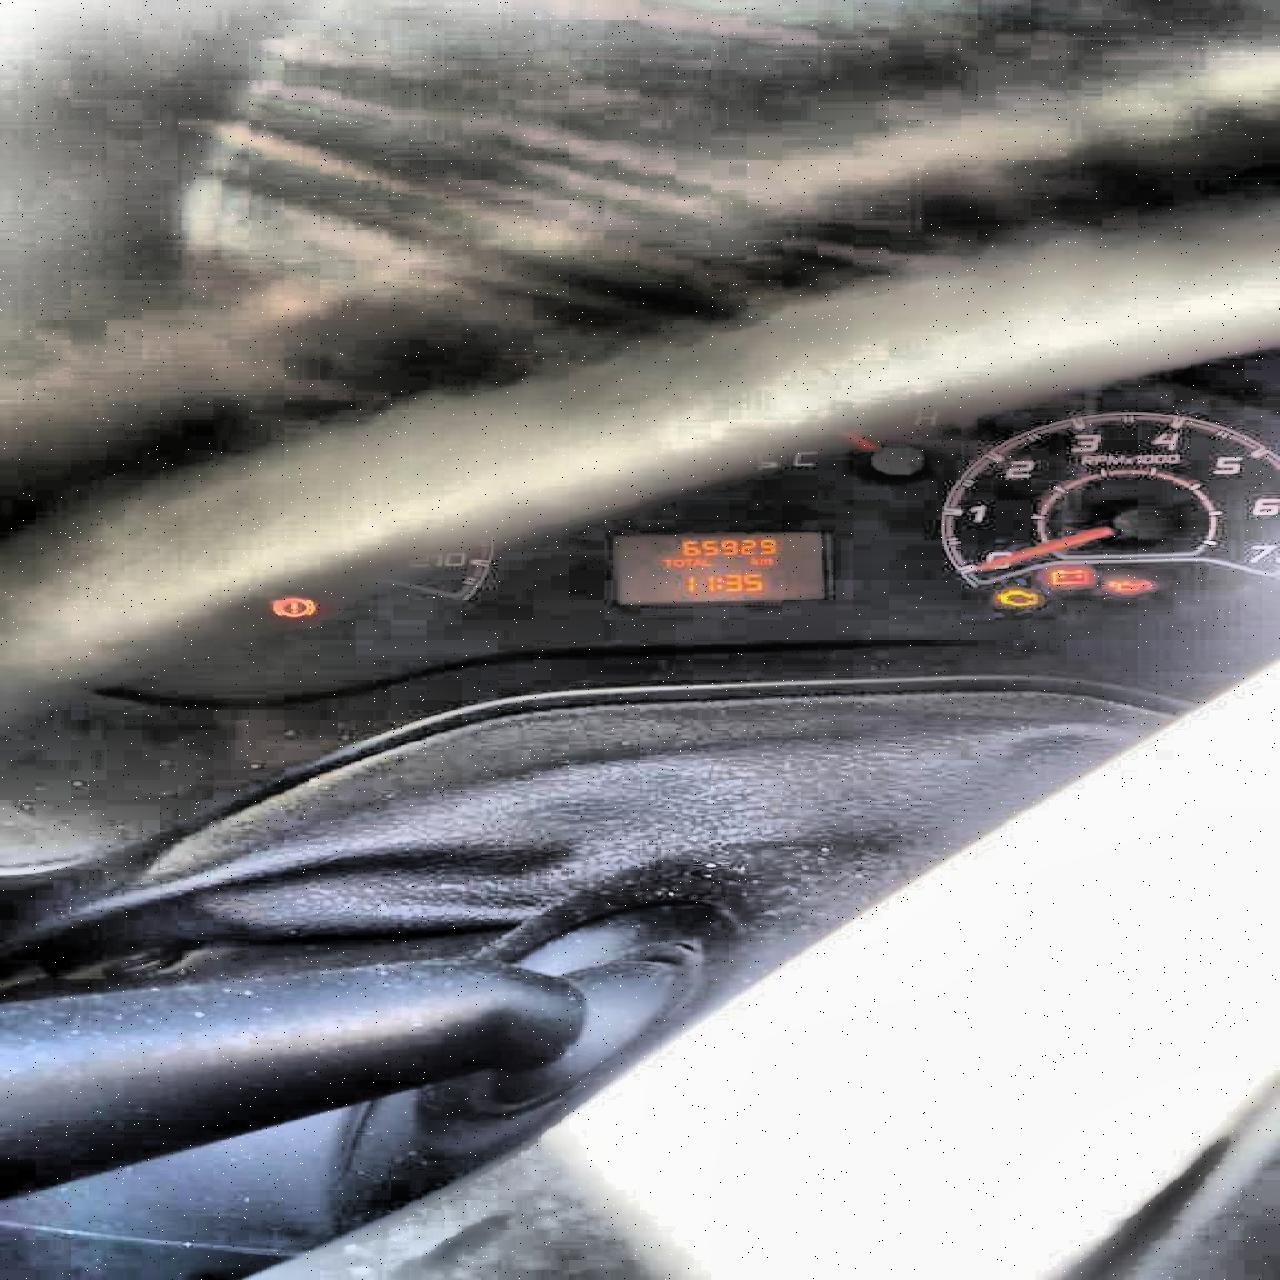1: (680, 572, 696, 592), (700, 572, 713, 592)
2: (737, 537, 756, 554)
3: (722, 572, 742, 592)
5: (742, 572, 762, 592), (697, 539, 719, 557)
6: (675, 538, 697, 557)
9: (717, 538, 735, 557), (756, 538, 776, 553)
X: (756, 556, 774, 565), (670, 558, 682, 567), (682, 556, 692, 566), (697, 558, 709, 566), (747, 556, 756, 565), (660, 558, 670, 566), (713, 577, 720, 588), (692, 558, 697, 566)
odometer: (602, 527, 836, 606)
